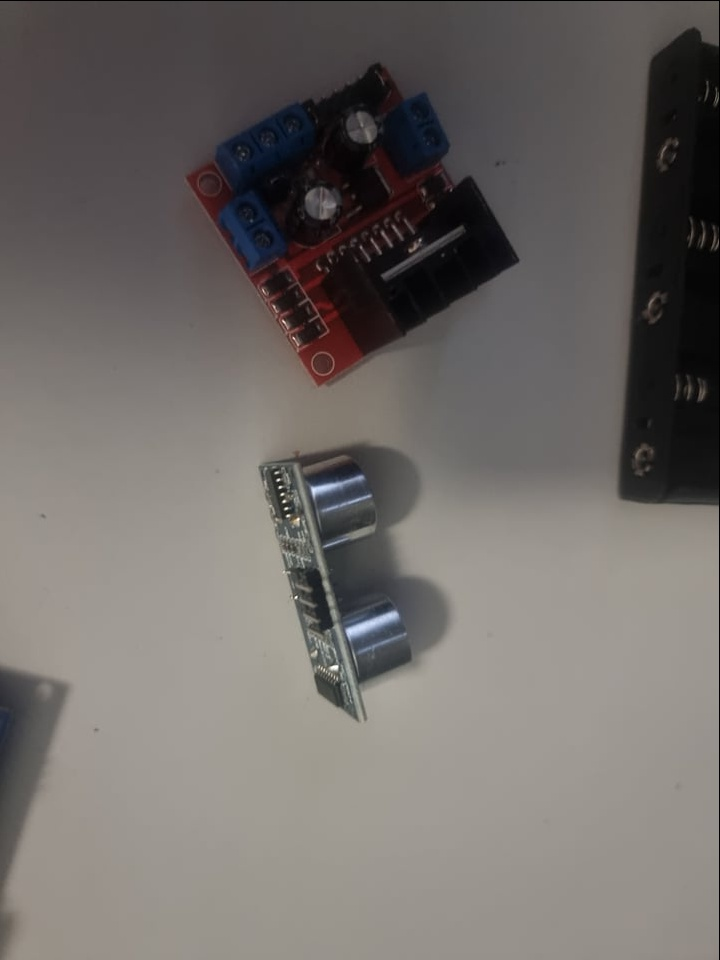BATTERY BOX: (603, 26, 720, 506)
MOTOR: (188, 61, 527, 386)
SENSOR: (249, 444, 418, 724)
